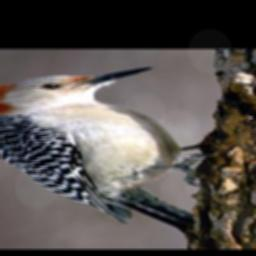Woodpecker: (0, 66, 215, 224)
